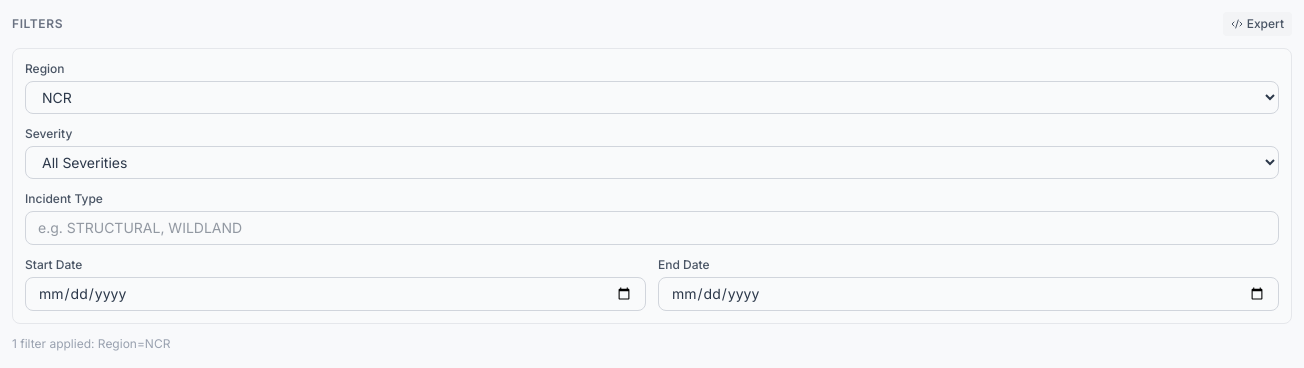
ReportFilterBuilder — expert mode › toggles to expert mode and shows JSON textarea
The image size is (1304, 368).
// Click the Expert button
Click the button "Expert": (1257, 24) [1223, 12, 1292, 36]
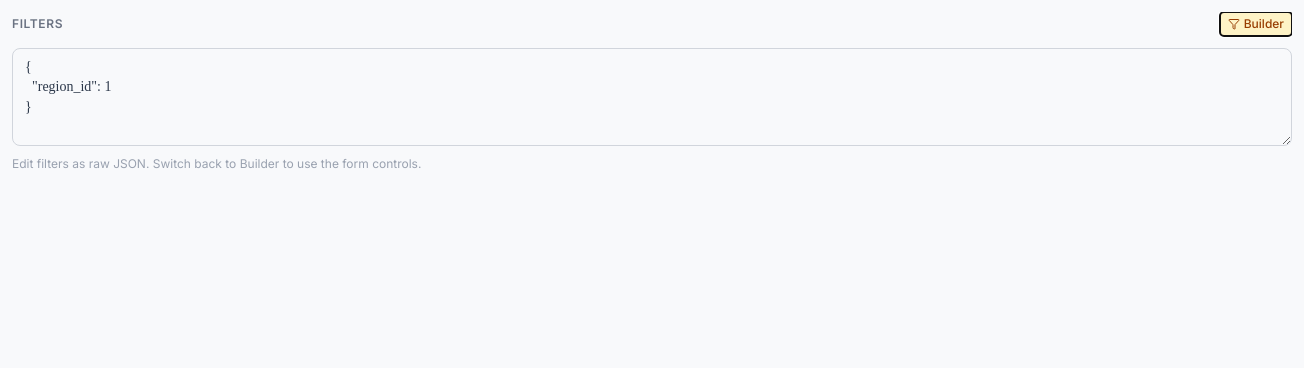
Check: the text box named "Filters raw JSON" is shown, box [12, 48, 1292, 146]
